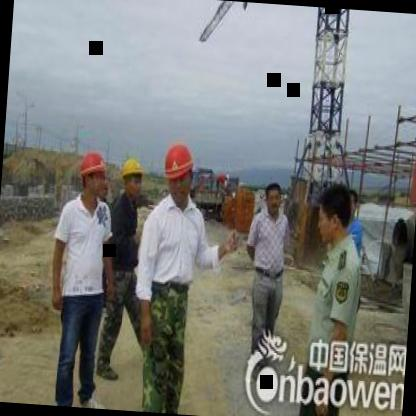helmet: (162, 143, 197, 205), (78, 149, 106, 199), (120, 156, 144, 196)
